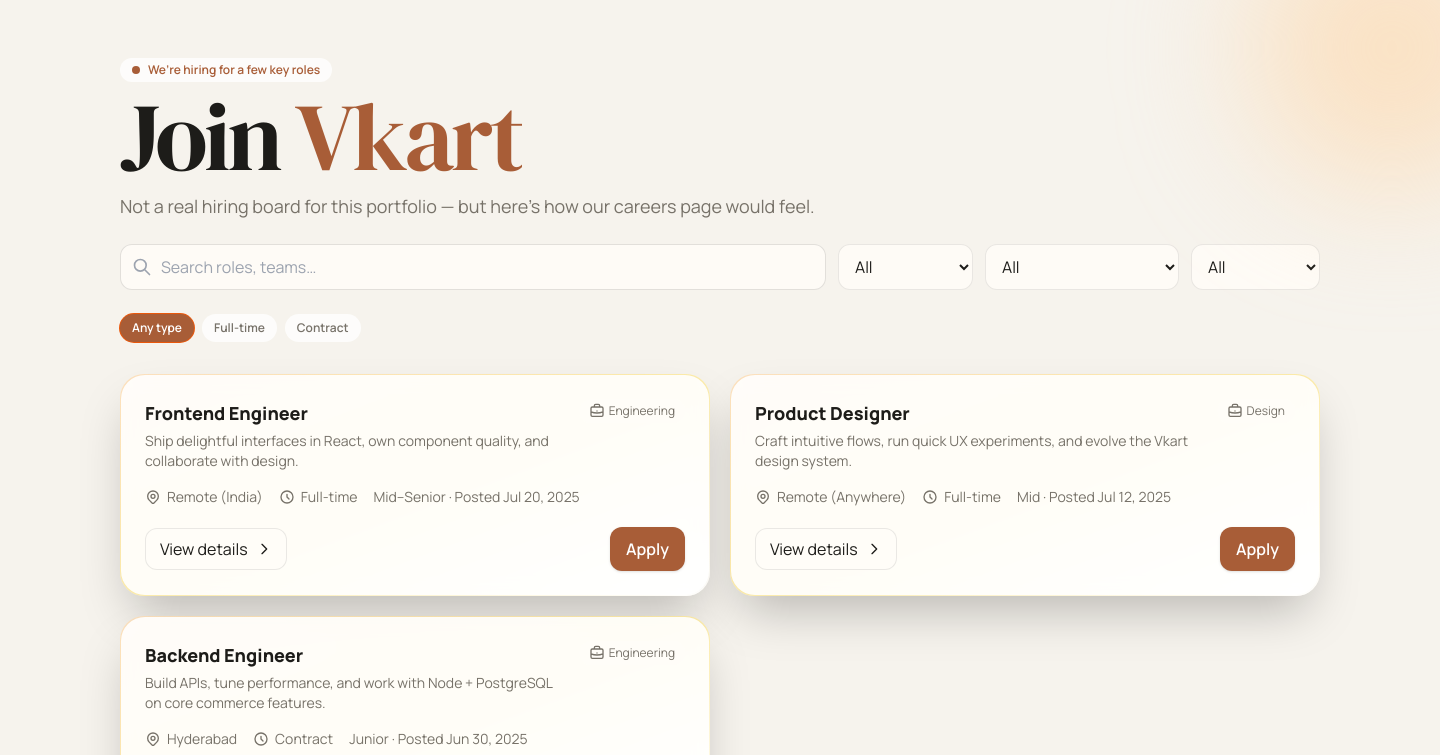
it: Careers Component › filters roles by department
The width and height of the screenshot is (1440, 755).
Select "Design" in the 1st dropdown at x=906, y=267, box [838,244,973,290]
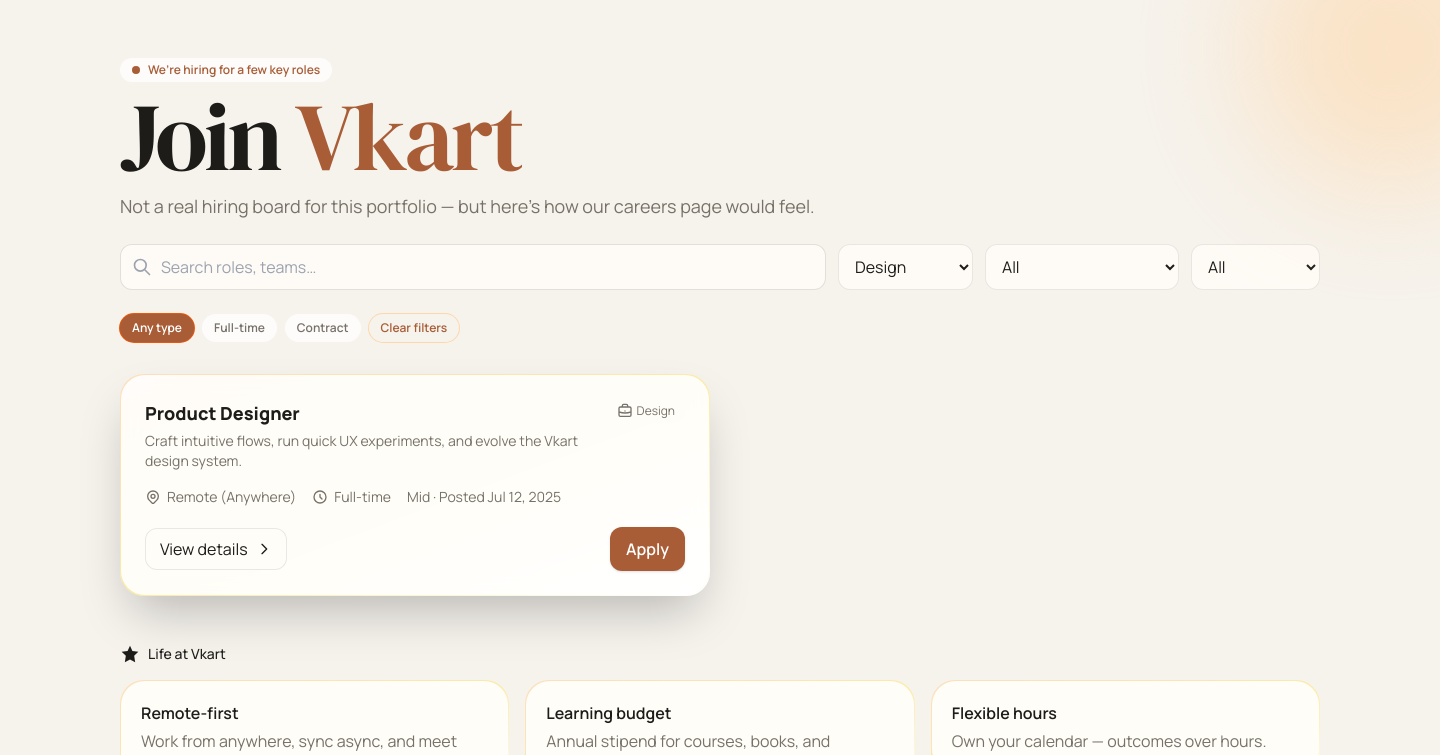
Check: the heading "Product Designer" is shown, box [145,401,300,425]
Check: the heading "Frontend Engineer" is gone
